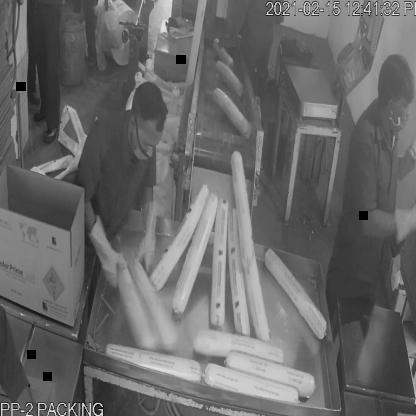glove: (83, 207, 128, 299), (126, 195, 166, 283), (359, 192, 416, 252), (391, 137, 416, 191)
no_glove: (217, 6, 246, 62)
